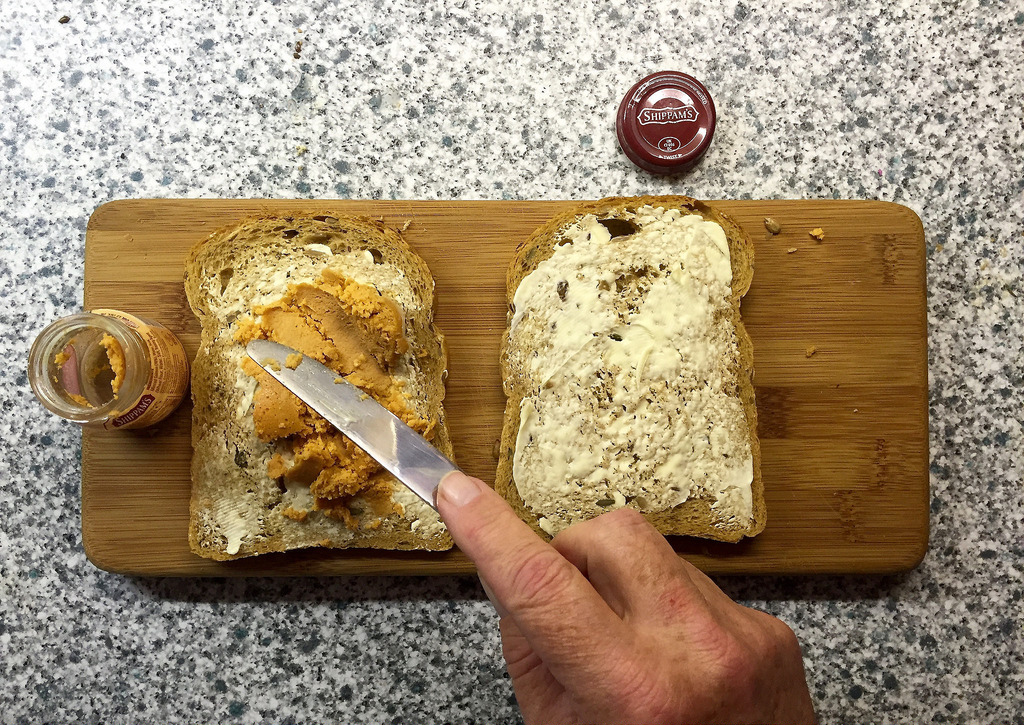slice of bread: (506, 205, 770, 523)
